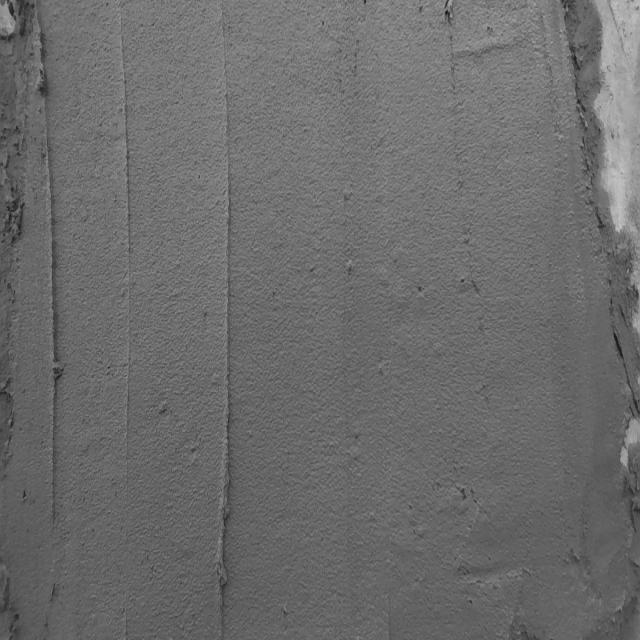trowels marks: (36, 22, 66, 532), (215, 24, 238, 636), (120, 34, 136, 486)
